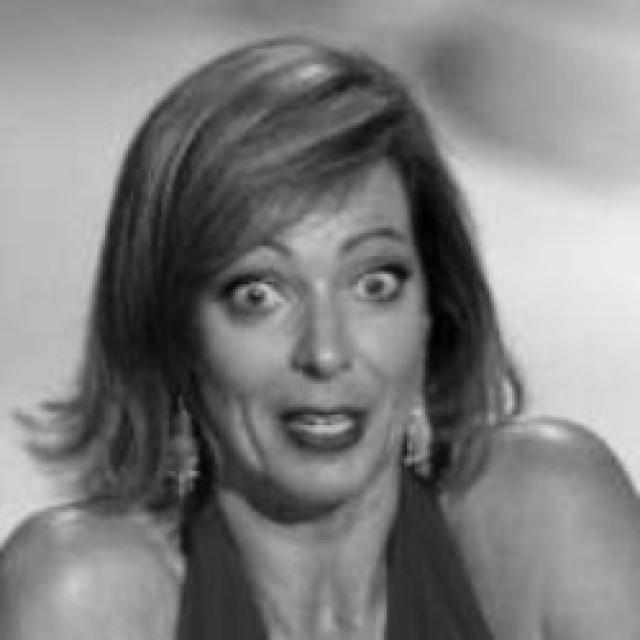real: (175, 190, 428, 514), (234, 249, 414, 328)
